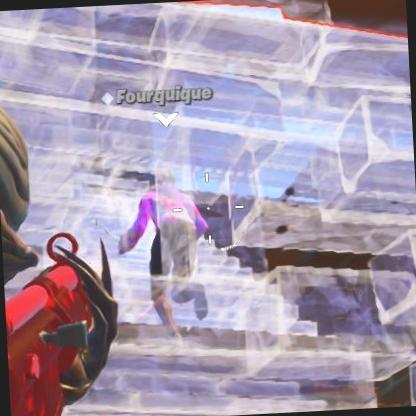person: (138, 162, 210, 303)
